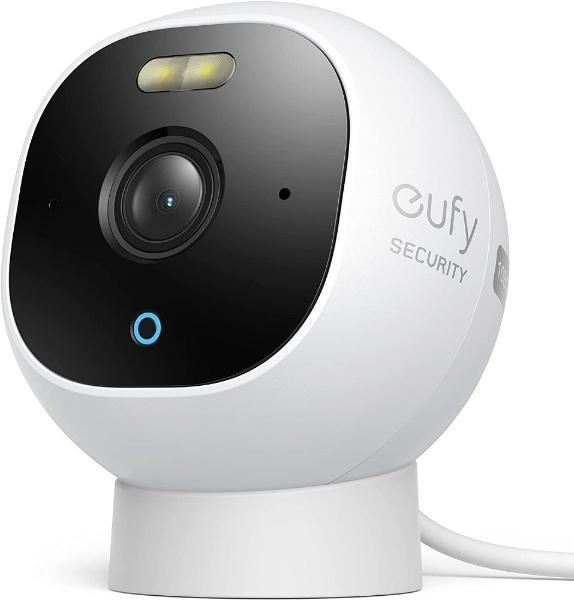maru: (0, 0, 513, 599)
